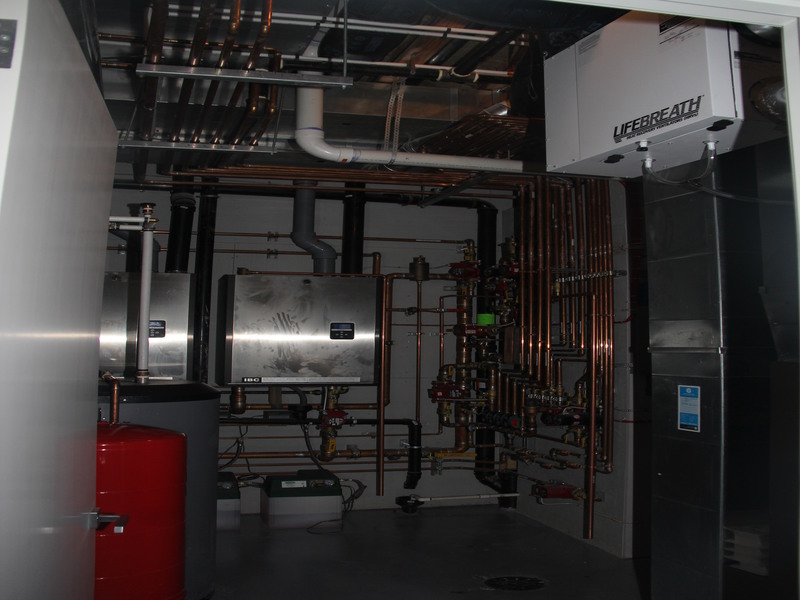valve: (323, 436, 340, 462), (446, 362, 456, 386)
